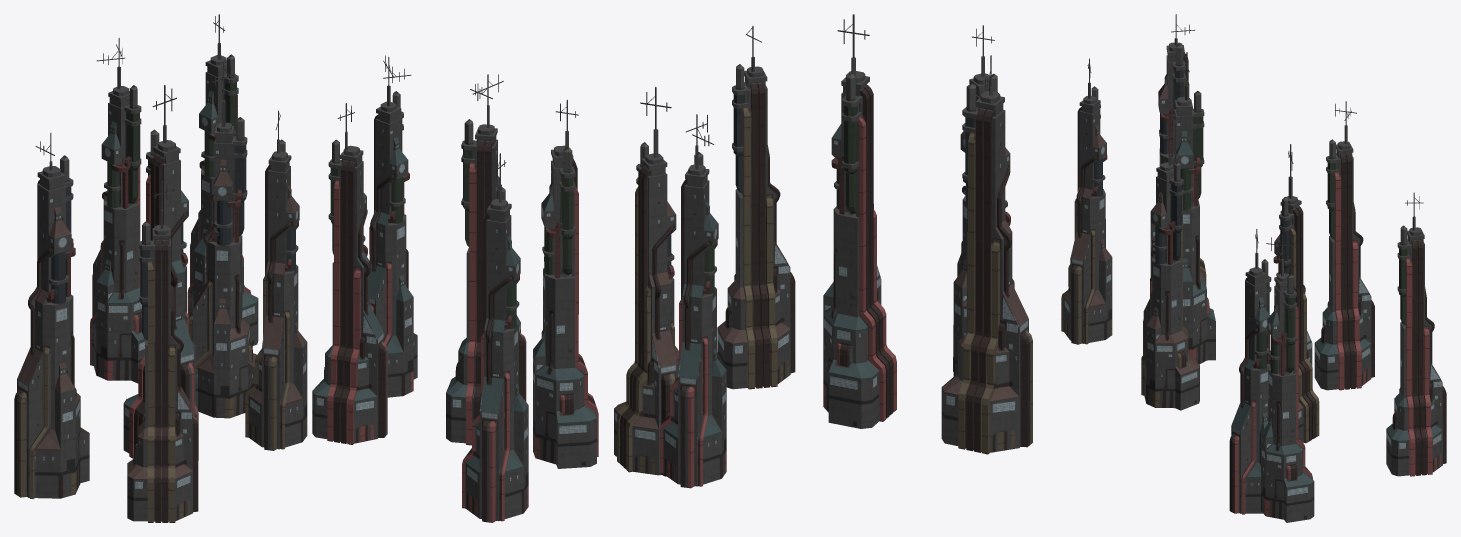
File: Backdrop_Mid.fbx
3 views of the same model, side by side, from view 1: azimuth 30°, elevation 25°; view 2: azimuth 150°, elevation 25°; view 3: azimuth 270°, elevation 25° (orthographic). The views are drawn at different scales.
Visible parts, largest first — view 1: SM_ENV_AMVLLG02_Backdrop_Mid.mo; view 2: SM_ENV_AMVLLG02_Backdrop_Mid.mo; view 3: SM_ENV_AMVLLG02_Backdrop_Mid.mo.
Part boxes in pixels (left/top/right/bottom): SM_ENV_AMVLLG02_Backdrop_Mid.mo: left=14, top=14, right=417, bottom=522; SM_ENV_AMVLLG02_Backdrop_Mid.mo: left=446, top=14, right=1032, bottom=522; SM_ENV_AMVLLG02_Backdrop_Mid.mo: left=1061, top=14, right=1446, bottom=522.
Bounding box in the file's own units: 16308 × 14371 × 13940.
